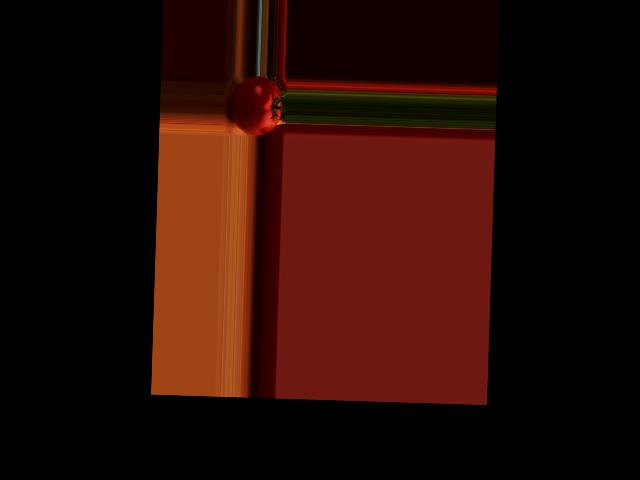tomato: (229, 76, 282, 136)
